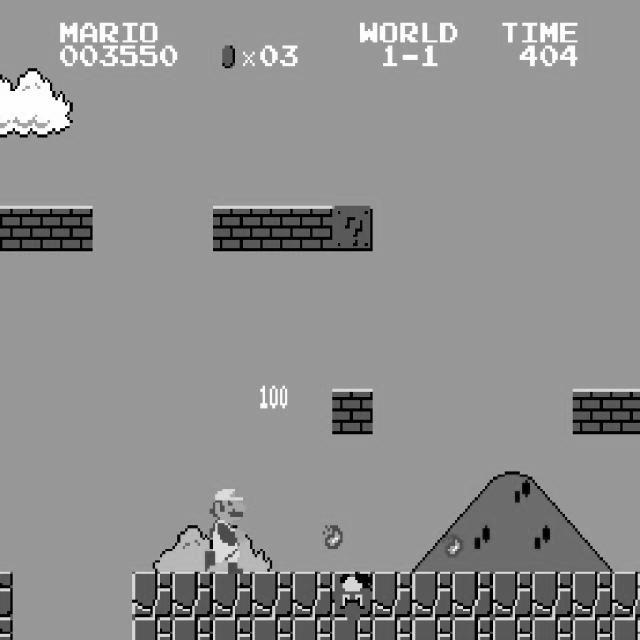1- brick_block: (332, 388, 373, 434), (572, 388, 613, 434), (12, 206, 53, 251), (52, 206, 93, 251), (212, 206, 253, 251), (252, 206, 293, 251), (292, 206, 333, 251), (612, 388, 640, 434), (0, 206, 13, 251)
13- mystery_block: (332, 206, 373, 251)
17- undestructible_block: (132, 572, 173, 618), (172, 572, 213, 618), (212, 572, 253, 618), (252, 572, 293, 618), (292, 572, 333, 618), (332, 572, 373, 618), (372, 572, 413, 618), (412, 572, 453, 618), (452, 572, 493, 618), (492, 572, 533, 618), (532, 572, 573, 618), (572, 572, 613, 618), (612, 572, 640, 618), (132, 617, 173, 640), (172, 617, 213, 640), (212, 617, 253, 640), (252, 617, 293, 640), (292, 617, 333, 640), (332, 617, 373, 640), (372, 617, 413, 640), (412, 617, 453, 640), (452, 617, 493, 640), (492, 617, 533, 640), (532, 617, 573, 640), (572, 617, 613, 640), (612, 617, 640, 640), (0, 572, 13, 618), (0, 617, 13, 640)
4- fire_mario: (202, 480, 245, 574)
5- fireball: (442, 532, 462, 558), (322, 522, 342, 548)
